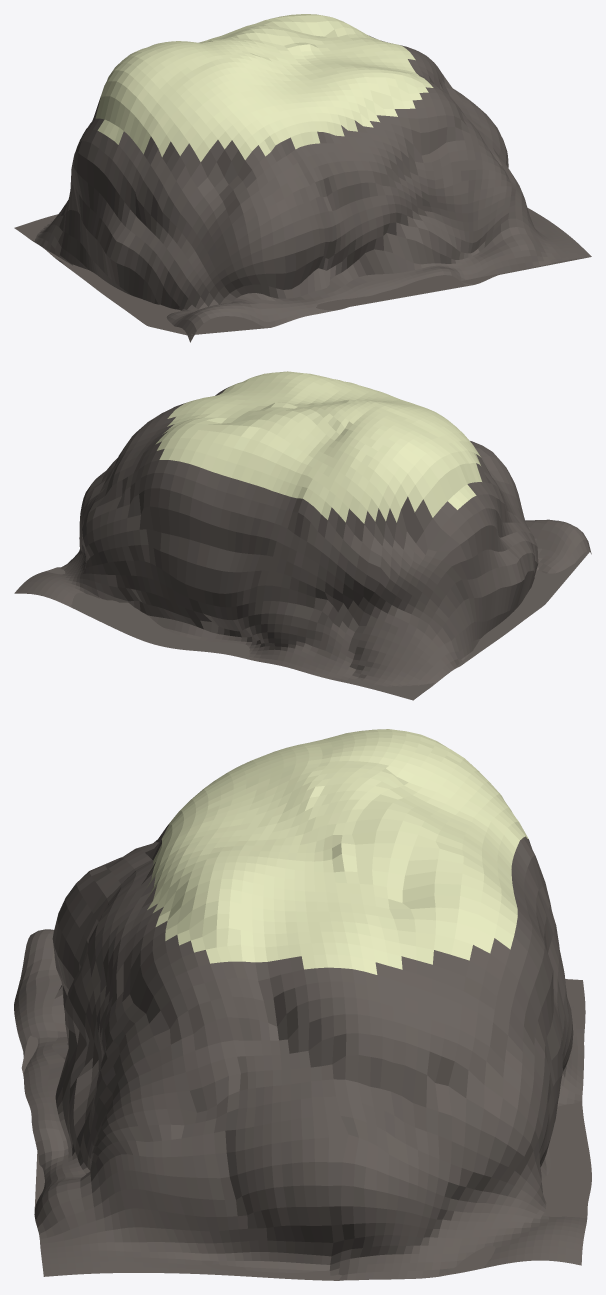
Rendered from gora.fbx.
3 renders of one model, top to bottom at view 1: azimuth 30°, elevation 25°; view 2: azimuth 150°, elevation 25°; view 3: azimuth 270°, elevation 25°, orthographic. The views are drawn at different scales.
Visible parts, largest first — view 1: Cube; view 2: Cube; view 3: Cube.
Boxes of the visible parts, x1,y1,x2,y2 form: Cube: (14, 14, 591, 342); Cube: (14, 371, 591, 700); Cube: (14, 729, 591, 1280).
Size of the model in its own units: 768 by 375 by 614.
